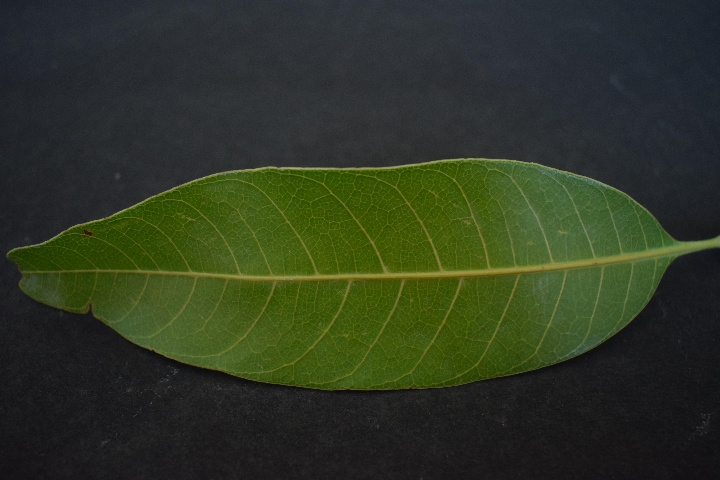healthy: (38, 159, 651, 389)
